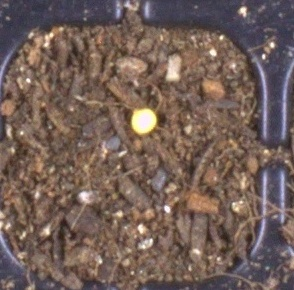chilli seed: (130, 108, 157, 135)
